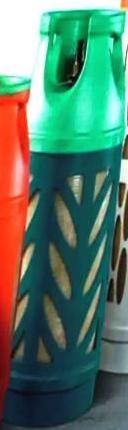cylinder: (1, 1, 128, 430)
